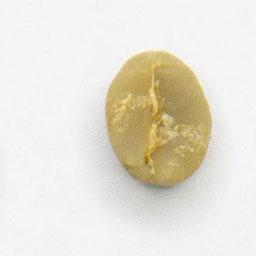premium: (101, 47, 216, 191)
